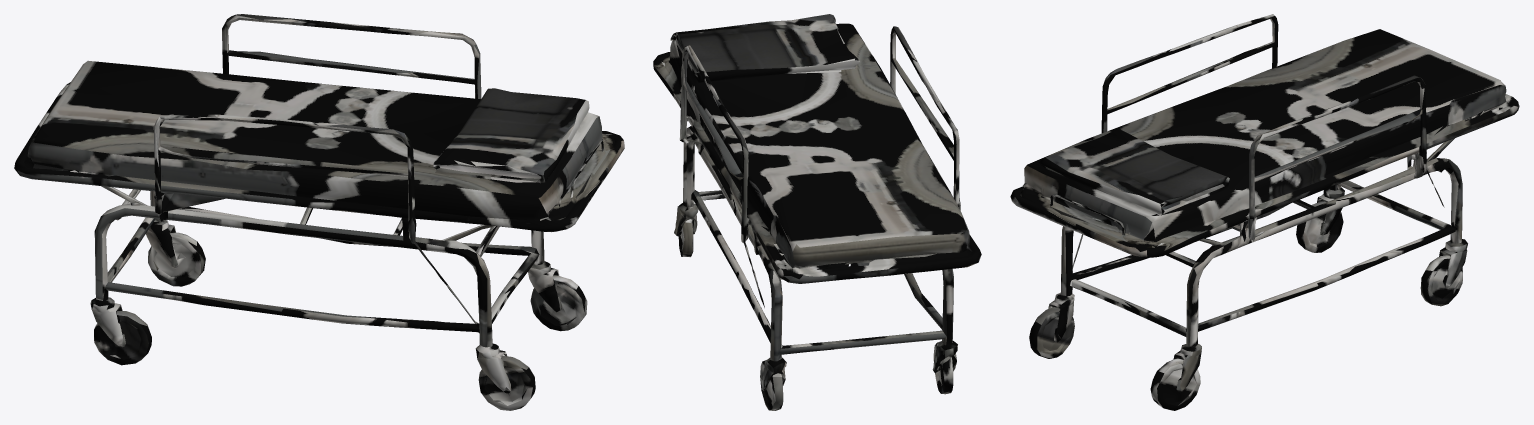
The picture shows the model from 3 angles, left to right: view 1: azimuth 30°, elevation 25°; view 2: azimuth 150°, elevation 25°; view 3: azimuth 270°, elevation 25°; orthographic projection. The views are drawn at different scales.
Visible parts, largest first — view 1: repaired; view 2: repaired; view 3: repaired.
Boxes of the visible parts, left/top/right/bottom form: repaired: left=14, top=14, right=624, bottom=410; repaired: left=653, top=14, right=981, bottom=410; repaired: left=1010, top=14, right=1519, bottom=410.
Bounding box in the file's own units: 0.9994 × 0.5549 × 1.
